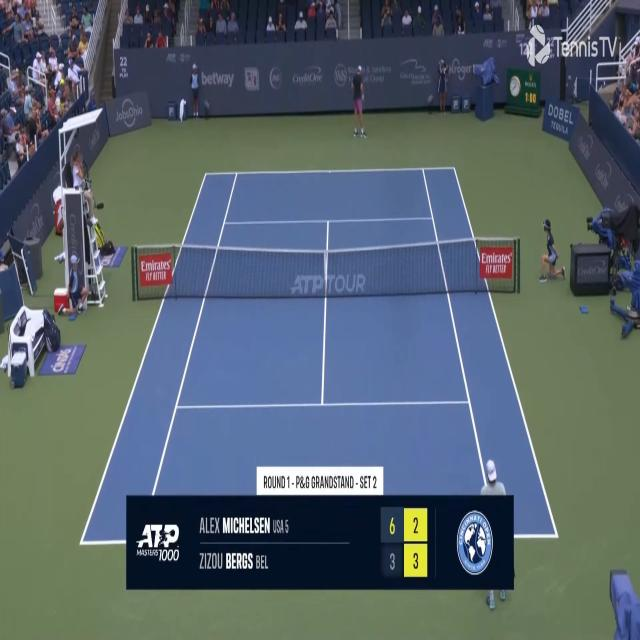tennis-player: (476, 458, 516, 609), (346, 63, 370, 140)
